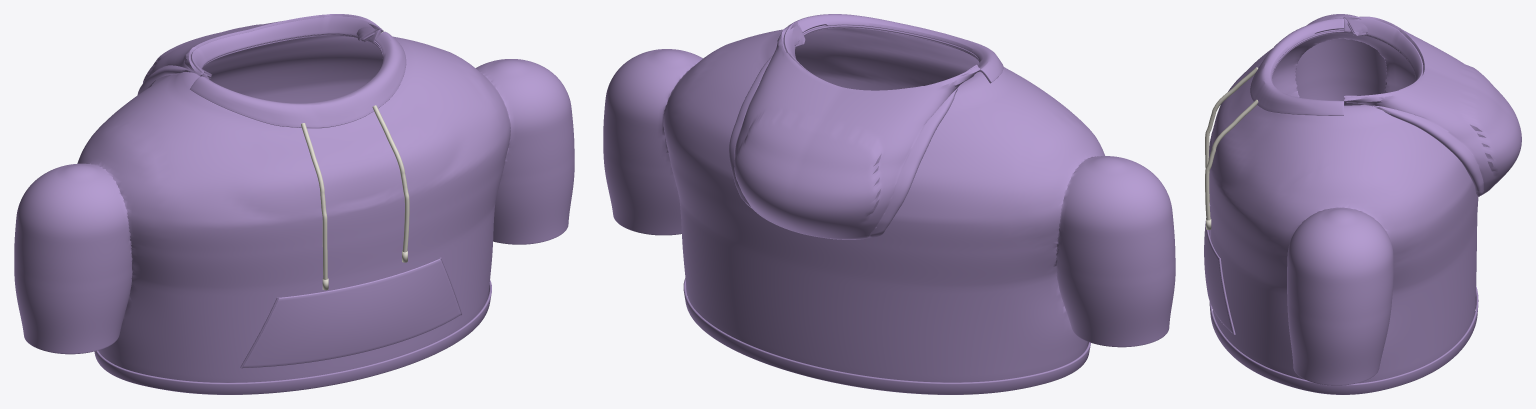
The model's file is Masculine-sweatshirt-top.glb.
3 renders of one model, left to right at view 1: azimuth 30°, elevation 25°; view 2: azimuth 150°, elevation 25°; view 3: azimuth 270°, elevation 25°, orthographic. The views are drawn at different scales.
Parts seen in each view (by area): view 1: Clothing / joined sweatshirt186, Hoodie / kangaroo pocket, Hoodie / soft front fold188, Hoodie / ribbed hem, Hoodie / seated rear fold187, Hoodie / resting hood, Hoodie / drawcord -1 export, Hoodie / drawcord 1 export; view 2: Clothing / joined sweatshirt186, Hoodie / resting hood, Hoodie / ribbed hem, Hoodie / soft front fold188; view 3: Clothing / joined sweatshirt186, Hoodie / resting hood, Hoodie / soft front fold188, Hoodie / ribbed hem, Hoodie / seated rear fold187, Hoodie / kangaroo pocket, Hoodie / drawcord 1 export, Hoodie / drawcord -1 export.
Part boxes in pixels (box(x1,y1,x2,y2)): Clothing / joined sweatshirt186: box(14, 34, 574, 382); Hoodie / kangaroo pocket: box(242, 258, 461, 367); Hoodie / soft front fold188: box(190, 31, 406, 128); Hoodie / ribbed hem: box(94, 280, 491, 394); Hoodie / seated rear fold187: box(191, 16, 381, 78); Hoodie / resting hood: box(137, 14, 383, 94); Hoodie / drawcord -1 export: box(301, 123, 327, 279); Hoodie / drawcord 1 export: box(372, 105, 409, 252); Clothing / joined sweatshirt186: box(603, 25, 1175, 382); Hoodie / resting hood: box(729, 21, 980, 239); Hoodie / ribbed hem: box(683, 278, 1090, 394); Hoodie / soft front fold188: box(788, 14, 1003, 83); Clothing / joined sweatshirt186: box(1208, 14, 1478, 385); Hoodie / resting hood: box(1344, 16, 1521, 196); Hoodie / soft front fold188: box(1250, 18, 1343, 115); Hoodie / ribbed hem: box(1209, 286, 1478, 394); Hoodie / seated rear fold187: box(1344, 16, 1423, 105); Hoodie / kangaroo pocket: box(1204, 202, 1232, 333); Hoodie / drawcord 1 export: box(1205, 99, 1258, 220); Hoodie / drawcord -1 export: box(1205, 67, 1258, 168).
Bounding box in the file's own units: 1.01 × 0.4903 × 0.5506.
